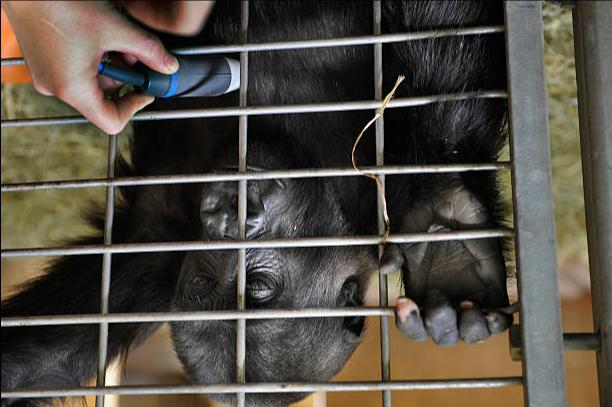gorille_Autres: (88, 110, 512, 407)
